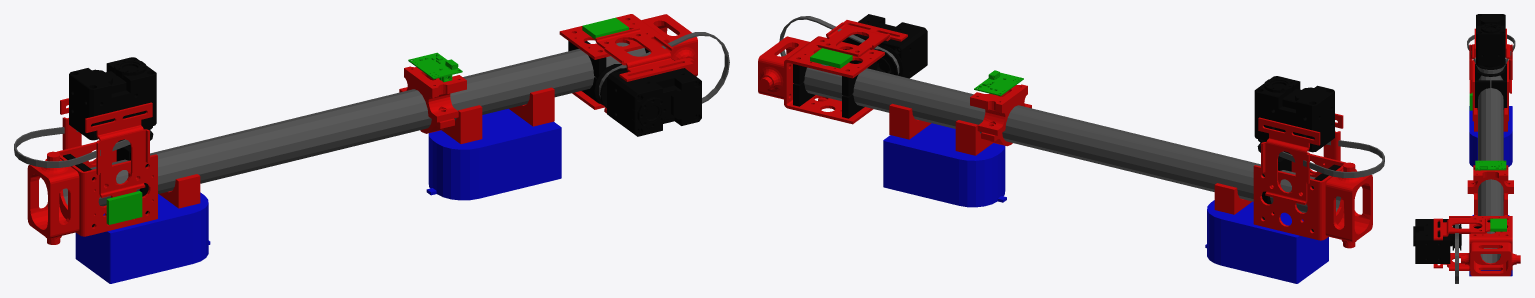
File: ducted_fan_general_link.dae
3 renders of one model, left to right at view 1: azimuth 30°, elevation 25°; view 2: azimuth 150°, elevation 25°; view 3: azimuth 270°, elevation 25°, orthographic. The views are drawn at different scales.
Parts seen in each view (by area): view 1: Red, Black_Nonmetal, Blue, Black_Metal, Green; view 2: Red, Black_Nonmetal, Blue, Black_Metal, Green; view 3: Red, Black_Metal, Black_Nonmetal, Blue, Green.
Part boxes in pixels (x1=…): Red: x1=27, y1=14, x2=697, y2=244; Black_Nonmetal: x1=14, y1=32, x2=729, y2=206; Blue: x1=75, y1=108, x2=561, y2=283; Black_Metal: x1=63, y1=41, x2=701, y2=227; Green: x1=106, y1=17, x2=628, y2=224; Red: x1=758, y1=20, x2=1372, y2=248; Black_Nonmetal: x1=779, y1=16, x2=1384, y2=212; Blue: x1=883, y1=123, x2=1328, y2=283; Black_Metal: x1=793, y1=14, x2=1340, y2=231; Green: x1=810, y1=48, x2=1023, y2=96; Red: x1=1433, y1=28, x2=1520, y2=276; Black_Metal: x1=1413, y1=14, x2=1507, y2=263; Black_Nonmetal: x1=1455, y1=34, x2=1515, y2=283; Blue: x1=1469, y1=106, x2=1512, y2=276; Green: x1=1469, y1=92, x2=1506, y2=231.
Size of the model in its own units: 0.471 by 0.1042 by 0.1327.
